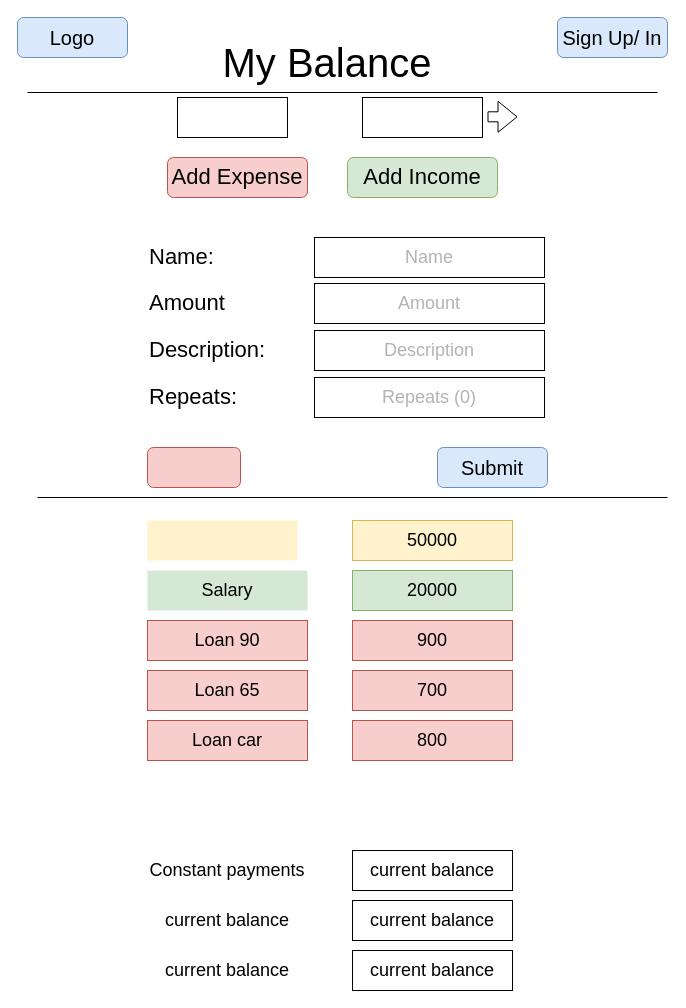
Some shapes in this 686 by 1008 pixel diagram are drawn without their labels. Here are the shapes that lost their labels. From the top down, the centre of each, then its label:
At pixel 232 117: "Year".
At pixel 422 117: "Month".
At pixel 193 467: "Clear".
At pixel 222 540: "current balance:".
